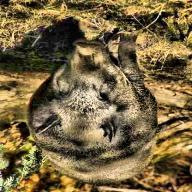boar: (39, 35, 159, 188)
